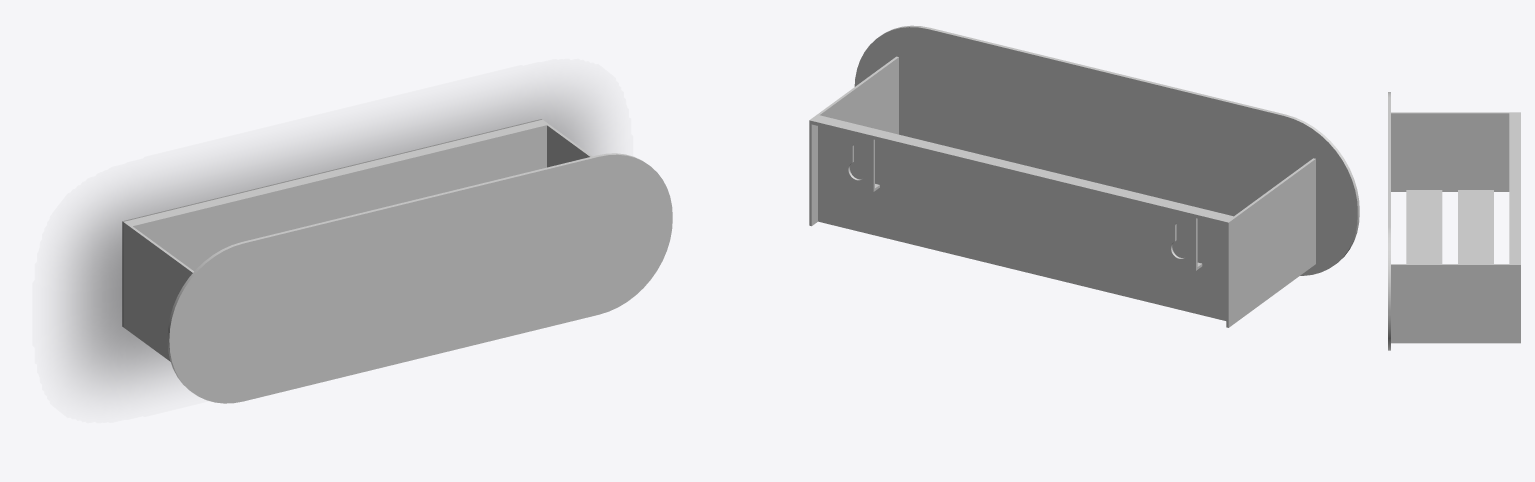
The model's file is round-mono.6a50f169e5.ar.glb.
The picture shows the model from 3 angles, left to right: view 1: azimuth 30°, elevation 25°; view 2: azimuth 150°, elevation 25°; view 3: azimuth 270°, elevation 25°; orthographic projection. The views are drawn at different scales.
Parts seen in each view (by area): view 1: NAUO1, object 2; view 2: NAUO1; view 3: NAUO1.
Boxes of the visible parts, x1=… form: NAUO1: x1=122, y1=119, x2=672, y2=403; object 2: x1=65, y1=96, x2=599, y2=385; NAUO1: x1=809, y1=25, x2=1359, y2=327; NAUO1: x1=1388, y1=92, x2=1520, y2=350.
Size of the model in its own units: 0.38 by 0.17 by 0.092.
2 materials, 1 textured.
